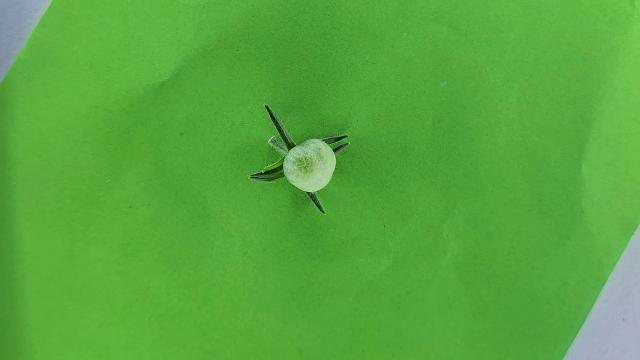Fruit Maturation: (281, 138, 337, 193)
